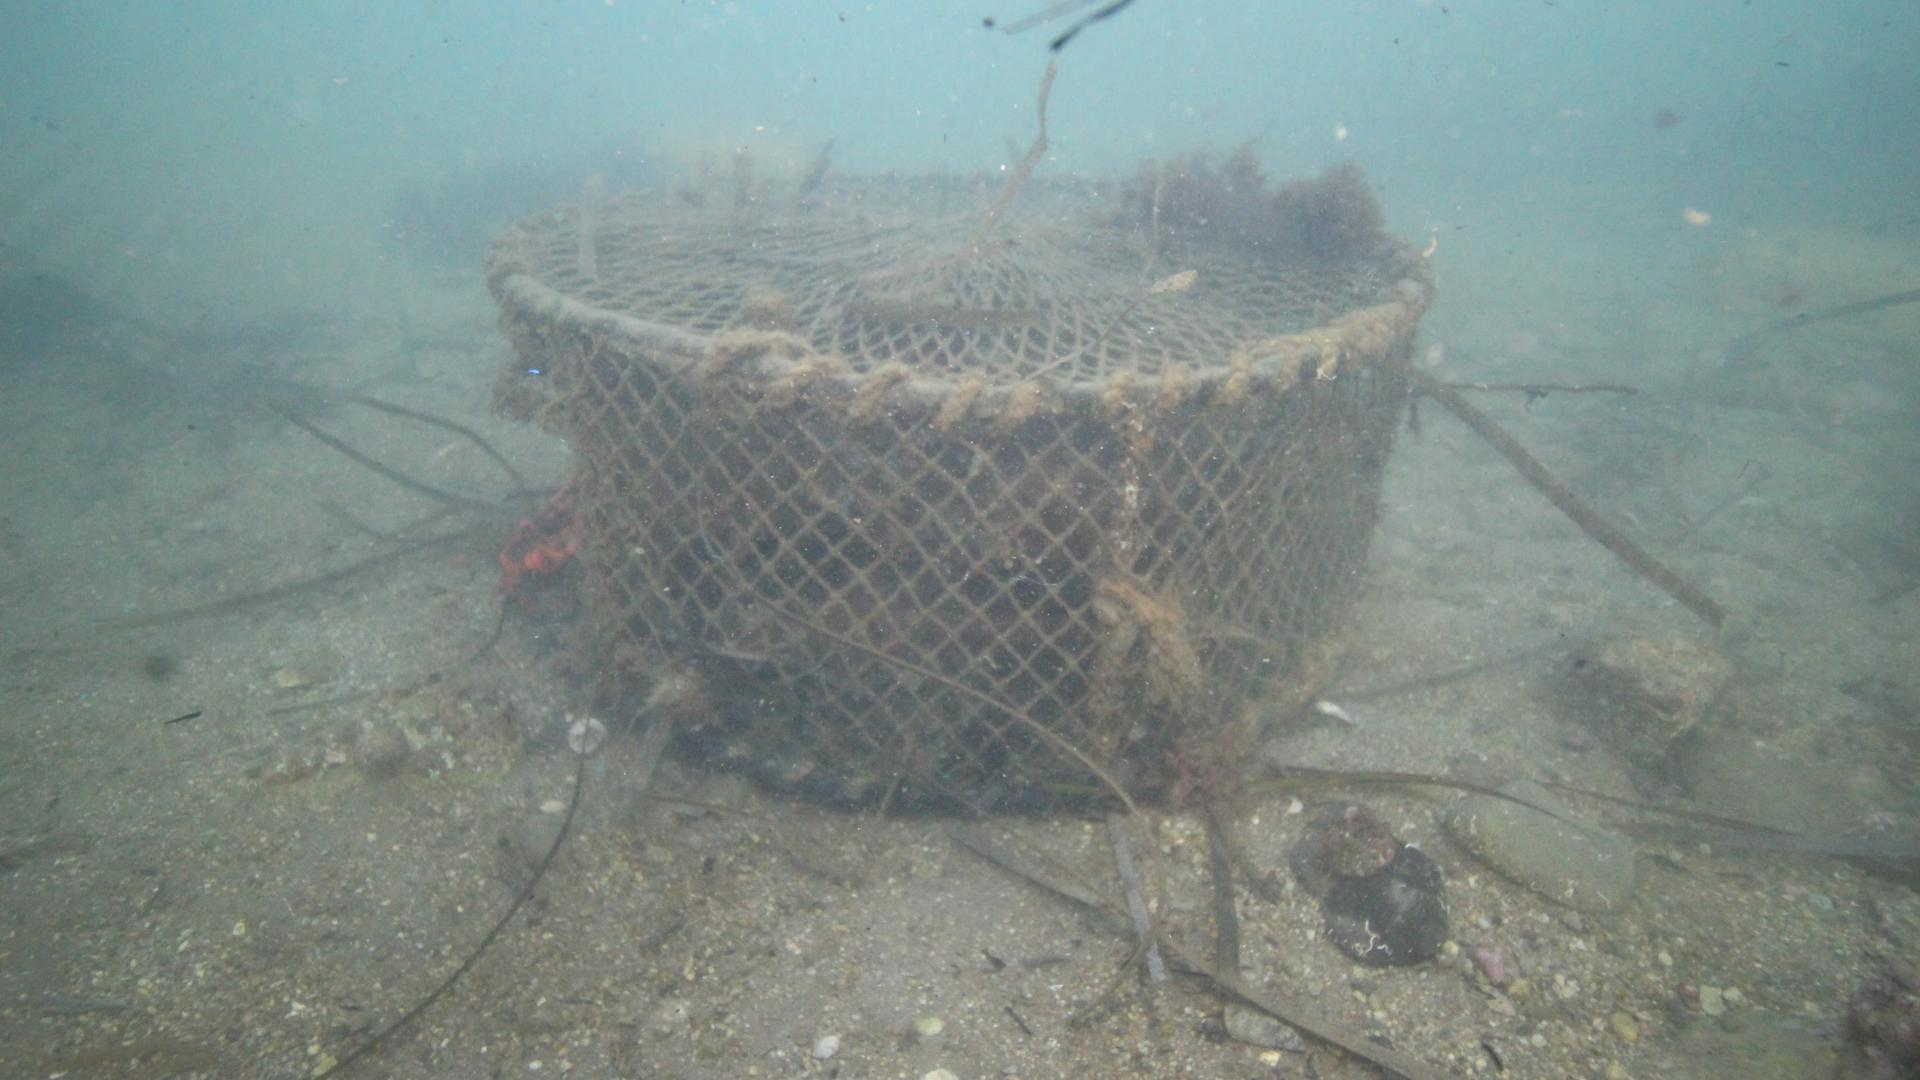circular fish trap: (487, 167, 1439, 811)
